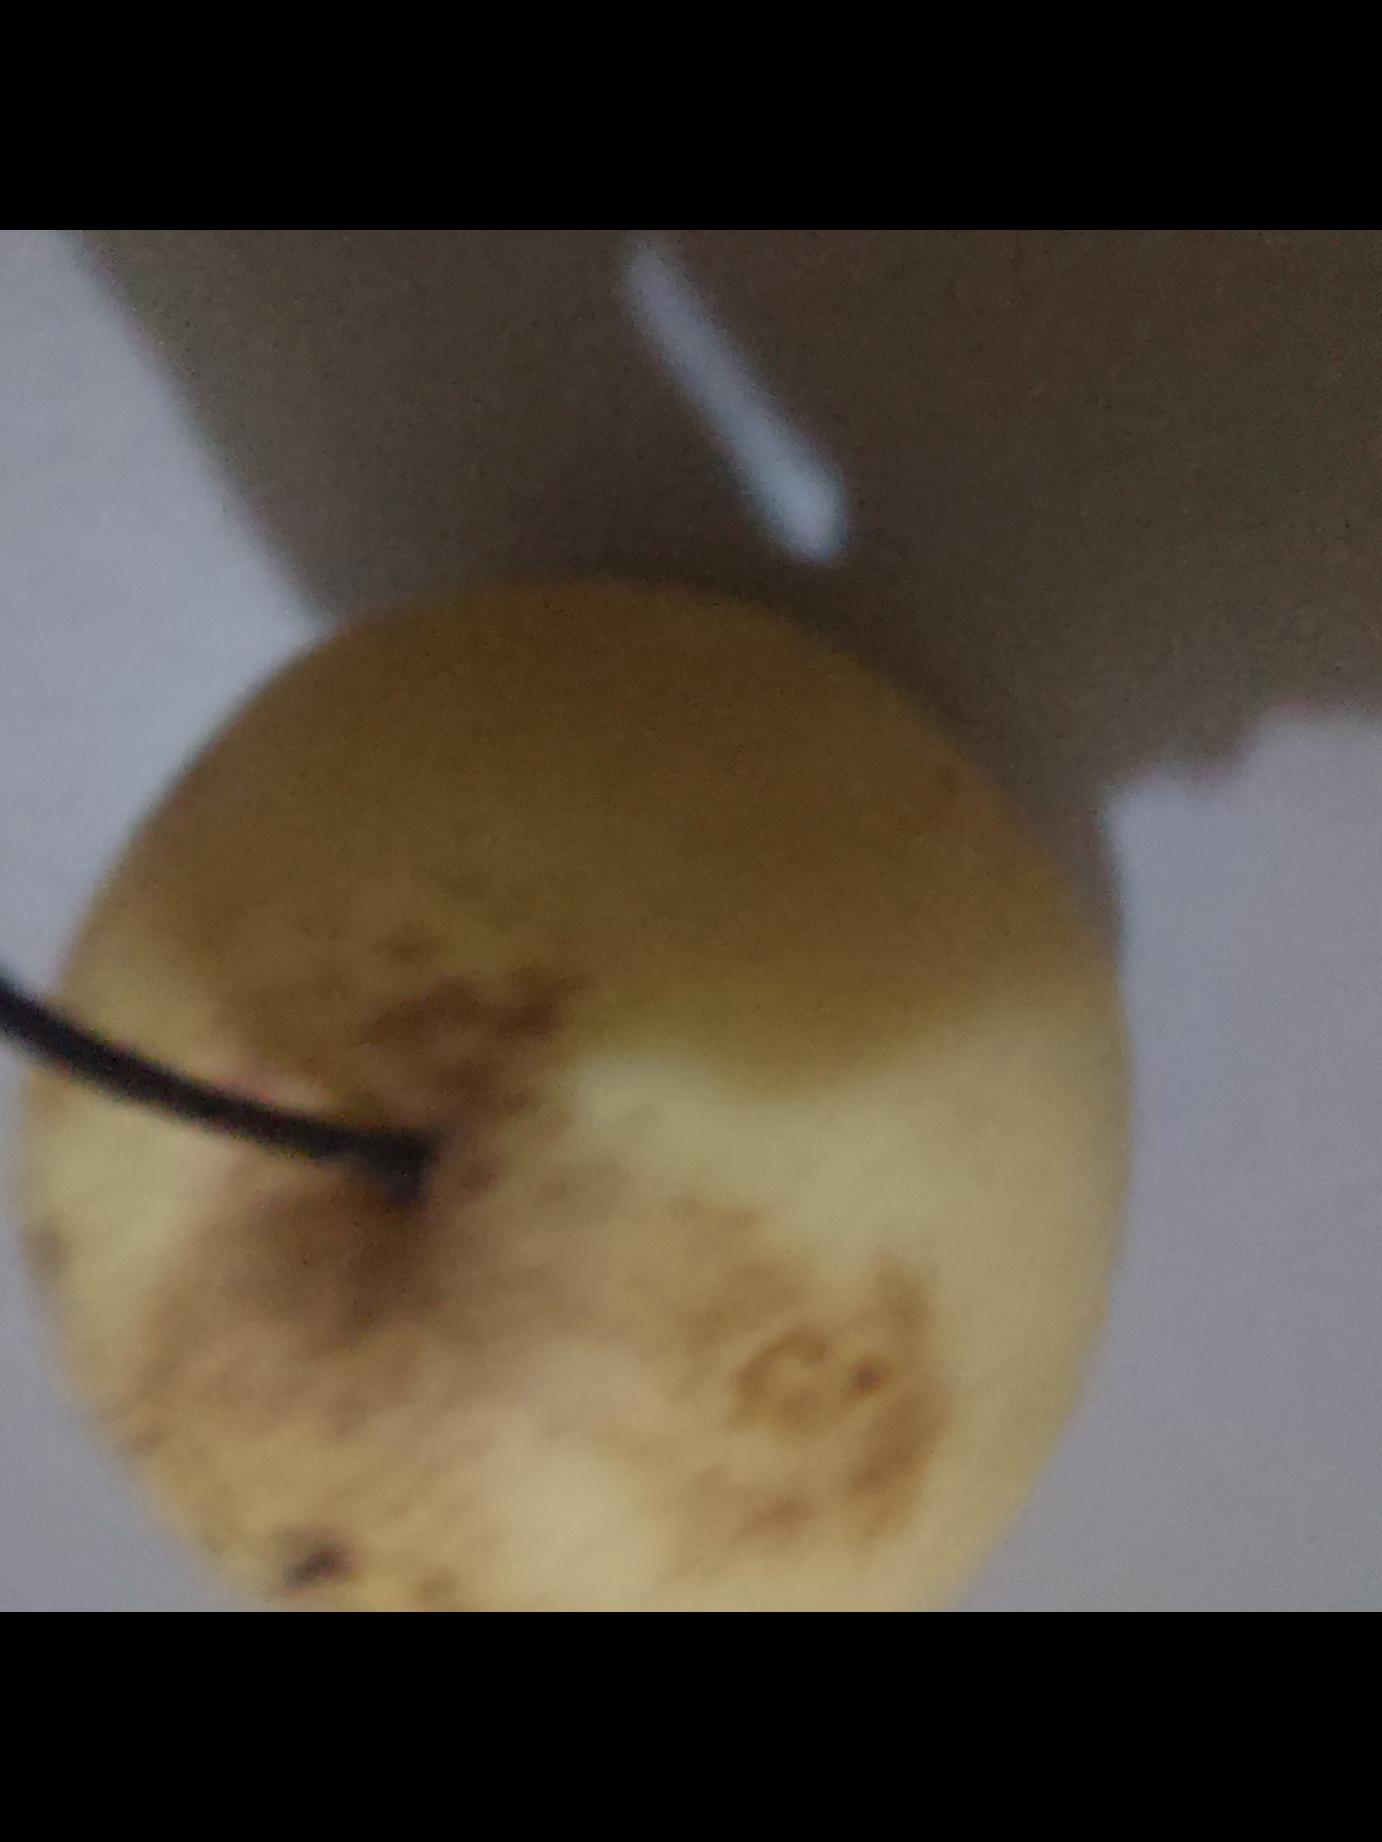Bad Pear: (7, 565, 1111, 1613)
